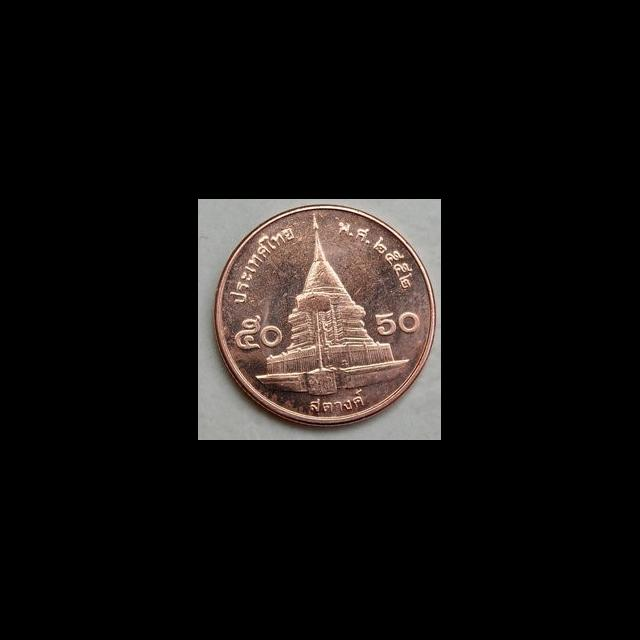50-satang: (198, 200, 442, 440)
